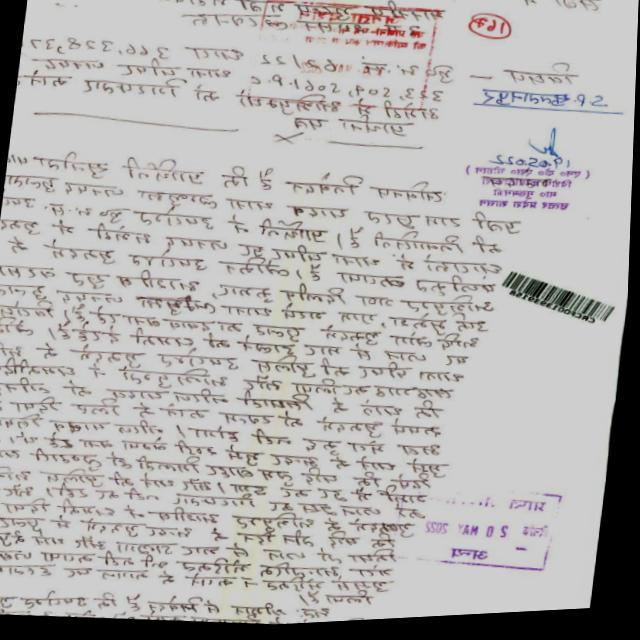antritgovtstamp: (378, 475, 569, 579)
barcode: (494, 262, 622, 331)
signnamestamp: (453, 109, 622, 221)
